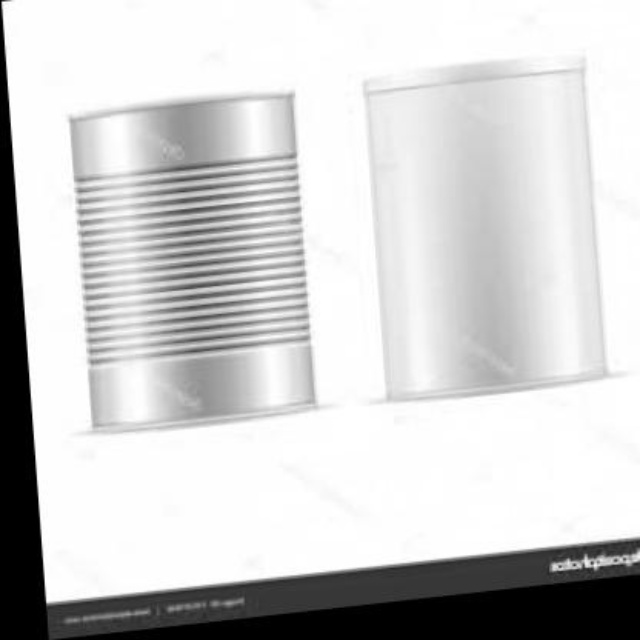trash: (71, 95, 312, 425), (368, 62, 603, 397)
